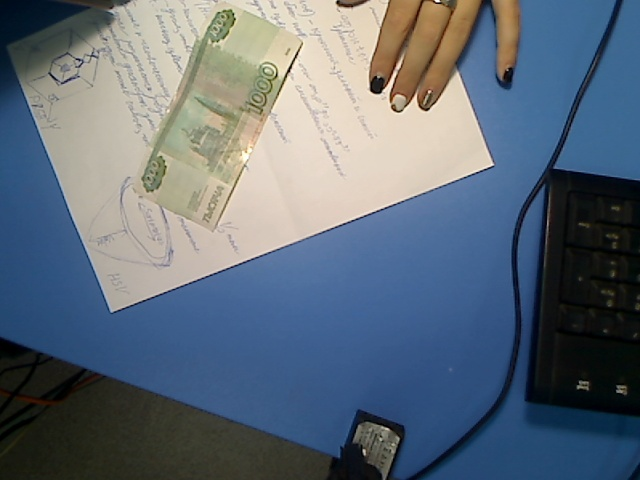banknotes: (131, 2, 304, 234)
